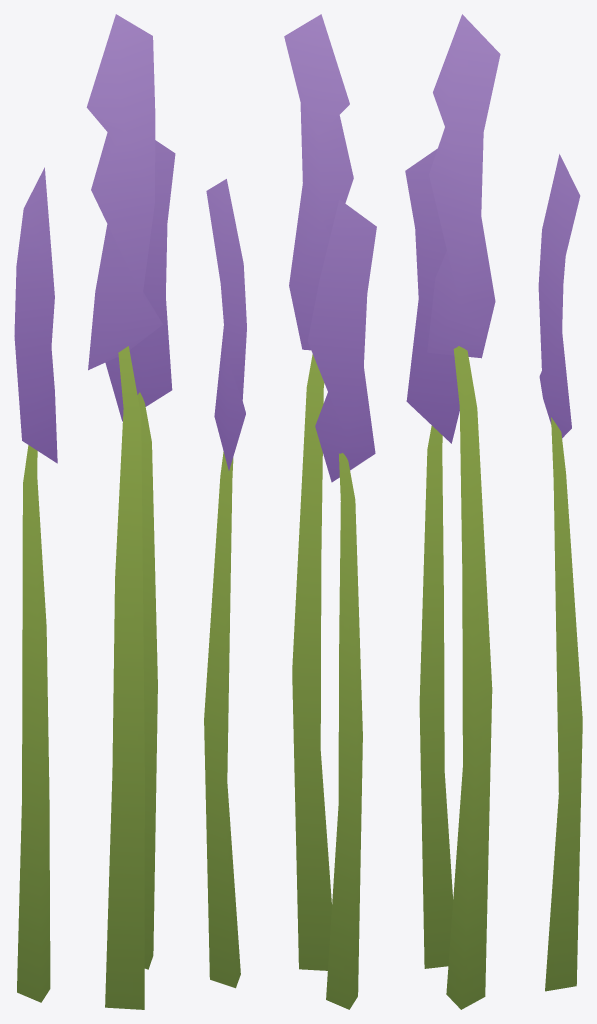
File: Flower_04.fbx
3 renders of one model, left to right at view 1: azimuth 30°, elevation 25°; view 2: azimuth 150°, elevation 25°; view 3: azimuth 330°, elevation 25°, orthographic. The views are drawn at different scales.
Parts seen in each view (by area): view 1: Flower_04_LOD0; view 2: Flower_04_LOD0; view 3: Flower_04_LOD0.
Part boxes in pixels (bbox=[...]): Flower_04_LOD0: bbox=[14, 14, 175, 1009]; Flower_04_LOD0: bbox=[204, 14, 376, 1009]; Flower_04_LOD0: bbox=[405, 14, 582, 1009].
Size of what is drawn, in the model's own units: 0.0808 by 0.465 by 0.0511.
